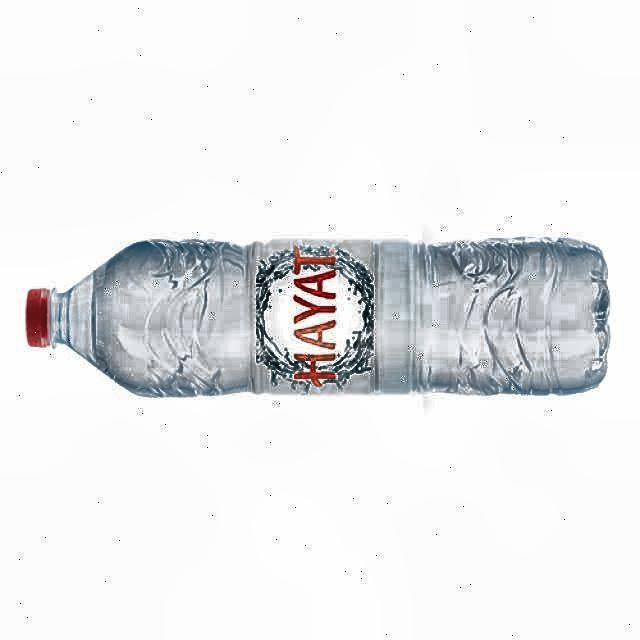plastic: (26, 239, 606, 396)
